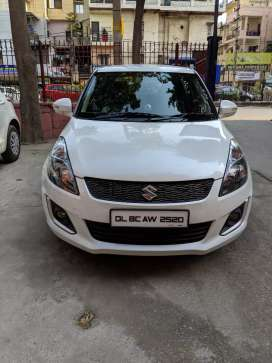license_plate: (110, 206, 191, 230)
